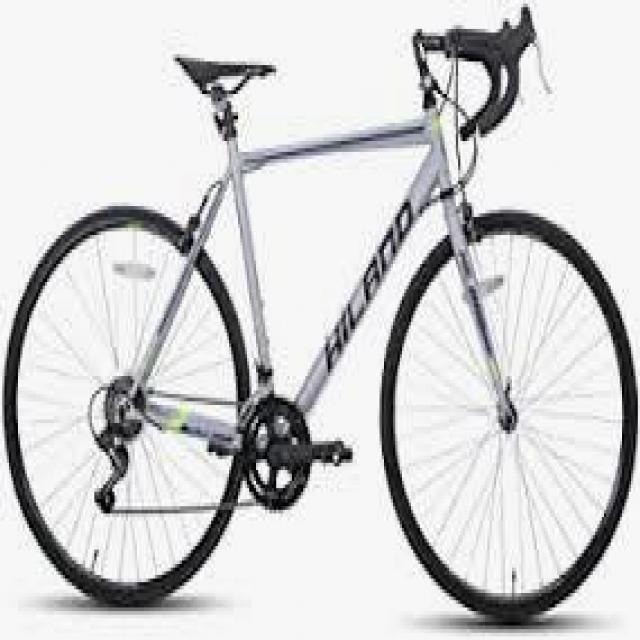bicycle: (12, 30, 630, 609)
